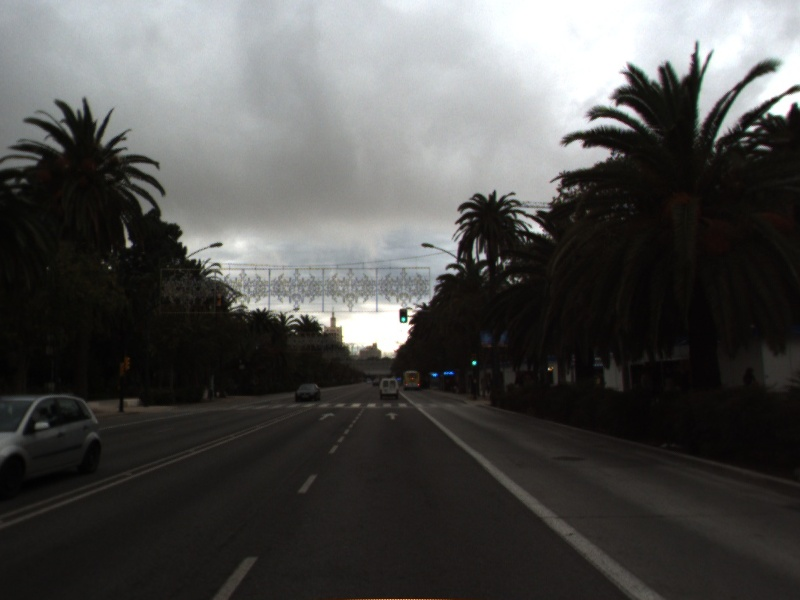STRAIGHT: (317, 410, 337, 422), (383, 410, 401, 422)
